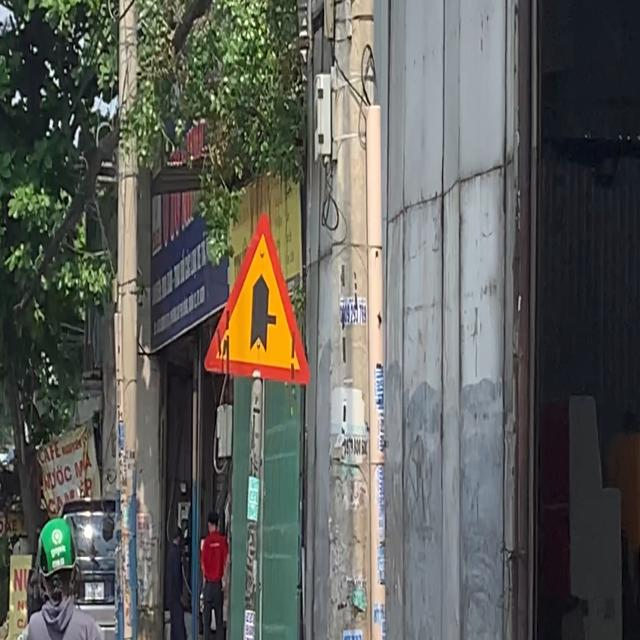Giao voi duong khong uu tien: (195, 194, 318, 392)
